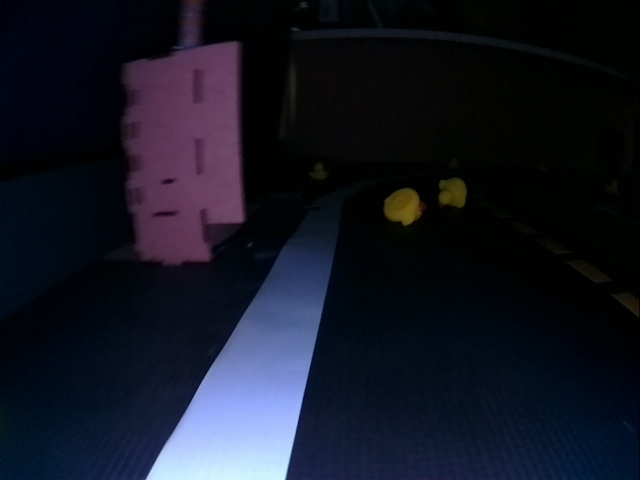Duckie: (386, 189, 418, 224), (441, 177, 467, 209), (310, 162, 327, 177)
